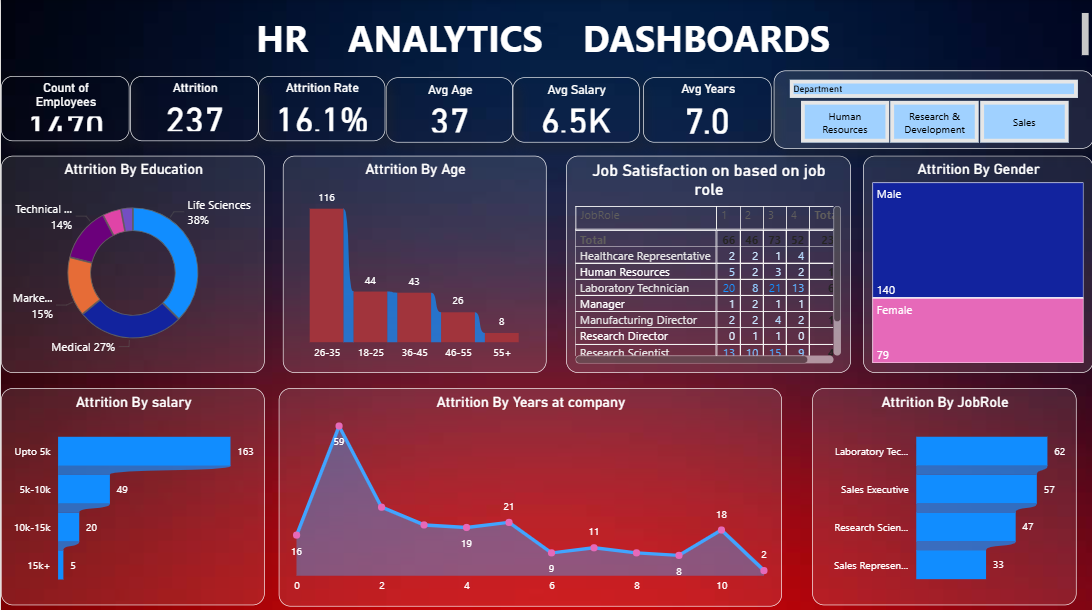

The dashboard page shown, as its layout file describes it:
{"tool":"powerbi","page":{"name":"Page 1","canvas":[1280,720],"ordinal":0},"visuals":[{"type":"card","title":"Count of Employees","fields":{"Values":["CountNonNull(HR_Analytics.EmpID)"]},"box":[0,89.8,150.8,76.3],"z":0},{"type":"card","title":"Attrition","fields":{"Values":["Sum(HR_Analytics.Attrition_Count)"]},"box":[150.8,89.8,150.8,76.3],"z":1000},{"type":"card","title":"Avg Age","fields":{"Values":["Avg(HR_Analytics.Age)"]},"box":[450.8,91.5,149.2,76.3],"z":2000},{"type":"card","title":"Attrition Rate","fields":{"Values":["HR_Analytics.Attrition_Rate"]},"box":[301.7,89.8,149.2,76.3],"z":3000},{"type":"card","title":"Avg Salary","fields":{"Values":["Avg(HR_Analytics.MonthlyIncome)"]},"box":[600,91.5,149.2,76.3],"z":4000},{"type":"card","title":"Avg Years","fields":{"Values":["Avg(HR_Analytics.YearsAtCompany)"]},"box":[752.5,91.5,150.8,76.3],"z":5000},{"type":"donutChart","title":"Attrition By Education","fields":{"Category":["HR_Analytics.EducationField"],"Y":["Sum(HR_Analytics.Attrition_Count)"]},"box":[0,183.7,309.5,254.7],"z":6000},{"type":"columnChart","title":"Attrition By Age","fields":{"Category":["HR_Analytics.AgeGroup"],"Y":["Sum(HR_Analytics.Attrition_Count)"]},"box":[330.4,183.7,309.5,254.7],"z":7000},{"type":"pivotTable","title":"Job Satisfaction on based on job role ","fields":{"Rows":["HR_Analytics.JobRole"],"Columns":["HR_Analytics.JobSatisfaction"],"Values":["Sum(HR_Analytics.Attrition_Count)"]},"box":[662.4,183.7,333.6,254.7],"z":8000},{"type":"barChart","title":"Attrition By salary","fields":{"Category":["HR_Analytics.SalarySlab"],"Y":["Sum(HR_Analytics.Attrition_Count)"]},"box":[0,456.1,309.5,254.7],"z":9000},{"type":"barChart","title":"Attrition By  JobRole","fields":{"Category":["HR_Analytics.JobRole"],"Y":["Sum(HR_Analytics.Attrition_Count)"]},"box":[950.8,455.9,310.2,254.2],"z":10000},{"type":"areaChart","title":"Attrition By Years at company","fields":{"Category":["HR_Analytics.YearsAtCompany"],"Y":["Sum(HR_Analytics.Attrition_Count)"]},"box":[325.4,455.9,589.8,255.9],"z":11000},{"type":"treemap","title":"Attrition By Gender","fields":{"Group":["HR_Analytics.Gender"],"Values":["Sum(HR_Analytics.Attrition_Count)"]},"box":[1010.2,183.1,269.5,254.2],"z":12000},{"type":"slicer","fields":{"Values":["HR_Analytics.Department"]},"box":[905,83.3,375,91.7],"z":13000},{"type":"textbox","box":[0,11.7,1280,63.3],"z":14000}]}

Visuals, with their boxes in screenshot pixels (x1, y1, x2, y2), scaled from the page's 1280x720 canvas onto the 1092x610 screenshot:
"Count of Employees" card: (0,76,129,141)
"Attrition" card: (129,76,257,141)
"Avg Age" card: (385,78,512,142)
"Attrition Rate" card: (257,76,385,141)
"Avg Salary" card: (512,78,639,142)
"Avg Years" card: (642,78,771,142)
"Attrition By Education" donutChart: (0,156,264,371)
"Attrition By Age" columnChart: (282,156,546,371)
"Job Satisfaction on based on job role " pivotTable: (565,156,850,371)
"Attrition By salary" barChart: (0,386,264,602)
"Attrition By  JobRole" barChart: (811,386,1076,602)
"Attrition By Years at company" areaChart: (278,386,781,603)
"Attrition By Gender" treemap: (862,155,1091,370)
slicer - HR_Analytics.Department: (772,71,1091,148)
textbox: (0,10,1091,64)
